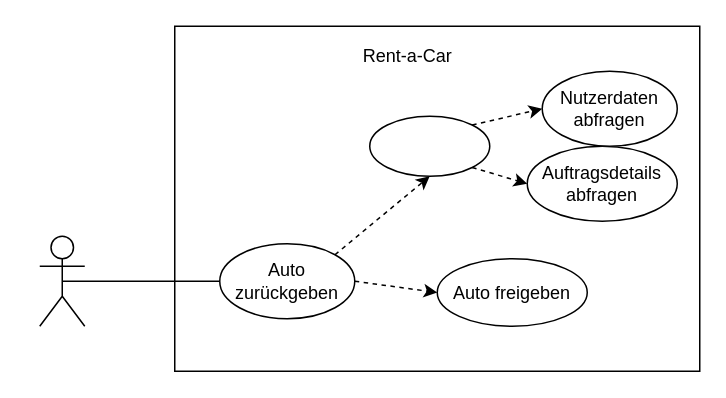
The diagram is 726 pixels wide and 398 high, and some of its shapes have lost their labels. The box of each missing label's shape, as (x1, y1, x2, y2) in pixels:
Benutzer: (38, 235, 85, 326)
Rechnung erstellen: (368, 115, 490, 176)
